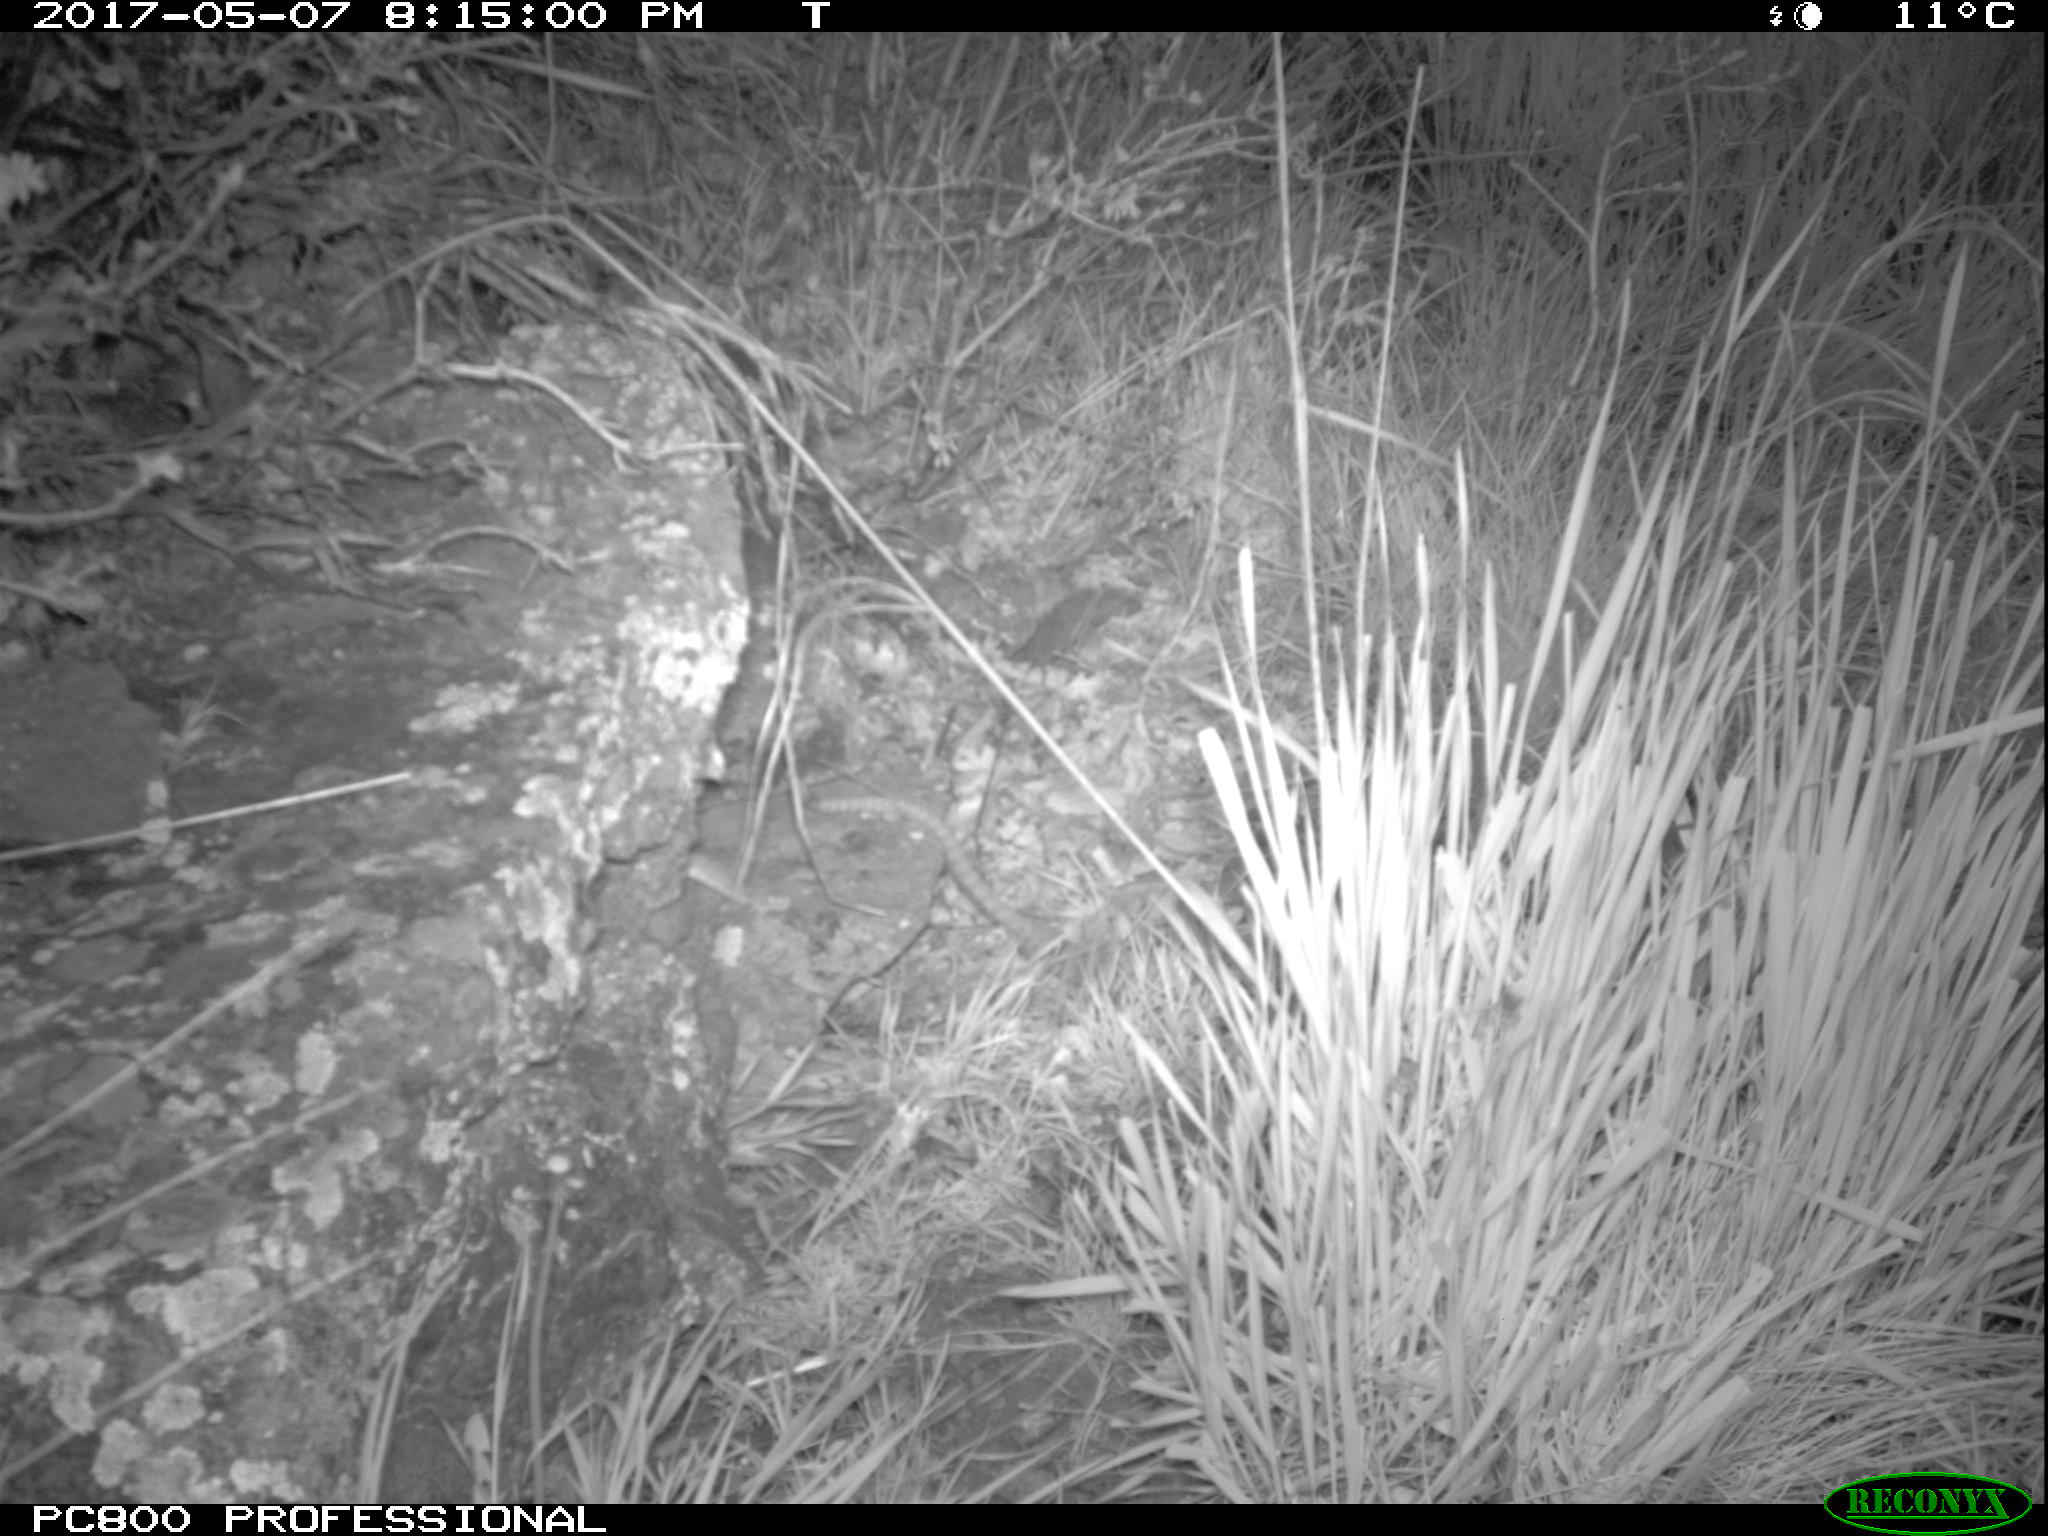snake: (801, 791, 1063, 958)
